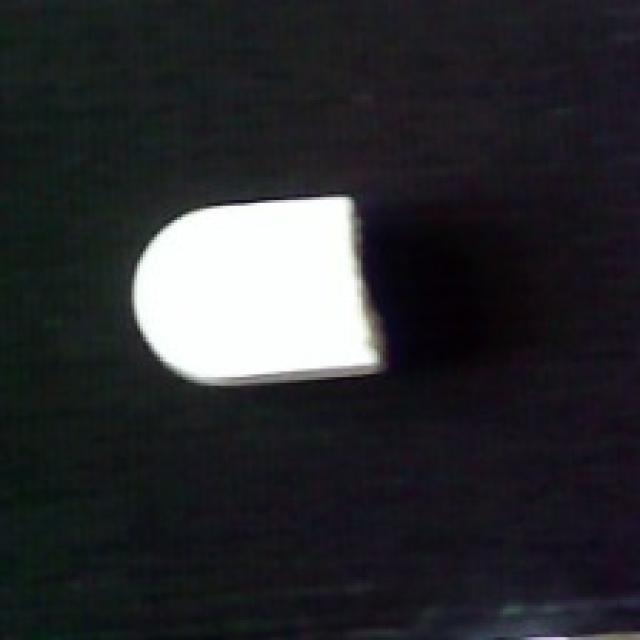defected: (126, 183, 391, 388)
